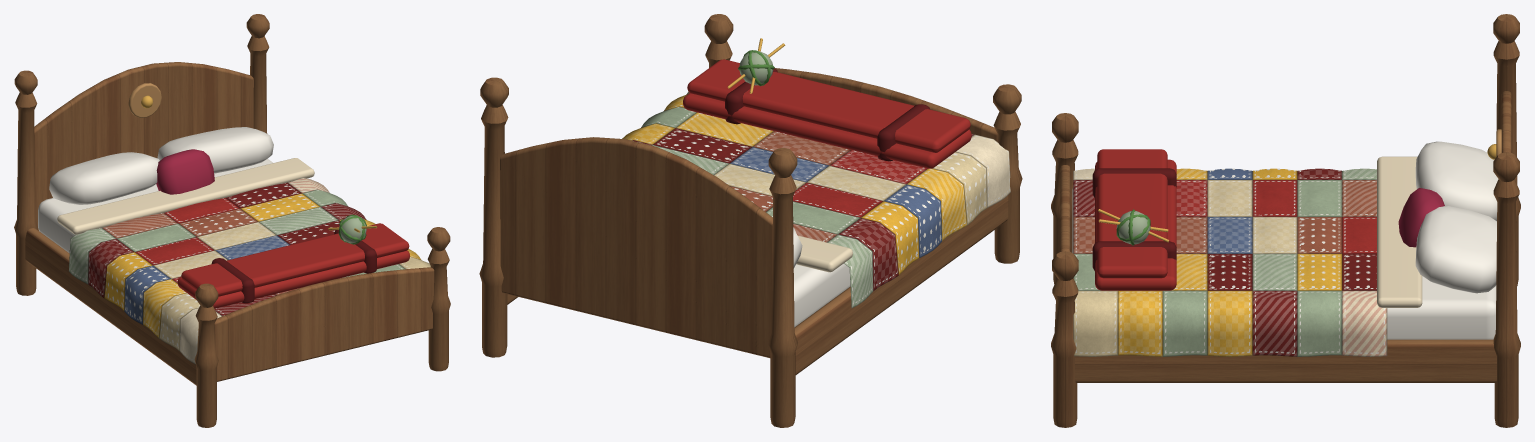
The model's file is gran_bed.glb.
3 views of the same model, side by side, from view 1: azimuth 30°, elevation 25°; view 2: azimuth 150°, elevation 25°; view 3: azimuth 270°, elevation 25° (orthographic). The views are drawn at different scales.
Parts seen in each view (by area): view 1: model, tidy; view 2: model, tidy; view 3: model, tidy.
Part boxes in pixels (x1=…): model: x1=14, y1=14, x2=450, y2=427; tidy: x1=156, y1=149, x2=409, y2=308; model: x1=479, y1=14, x2=1022, y2=427; tidy: x1=683, y1=38, x2=971, y2=168; model: x1=1051, y1=14, x2=1520, y2=427; tidy: x1=1092, y1=149, x2=1444, y2=290.
Size of the model in its own units: 1.57 by 1.3 by 2.07.
Materials: 12 (2 with a texture image).
